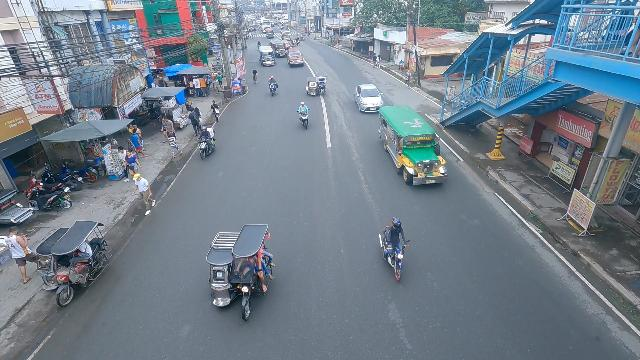car: (355, 83, 384, 112), (286, 50, 305, 67)
jeepney: (377, 104, 450, 187), (258, 45, 275, 67), (269, 39, 288, 57), (280, 29, 291, 41), (265, 28, 274, 38)
motorcycle: (378, 218, 411, 284), (197, 125, 216, 162), (297, 102, 311, 130), (266, 75, 279, 97), (257, 41, 261, 46)
